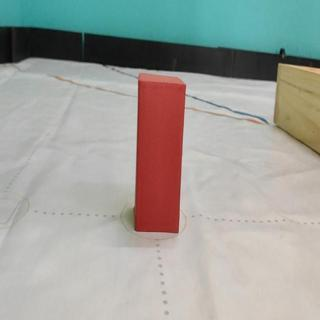redbox: (135, 71, 186, 234)
